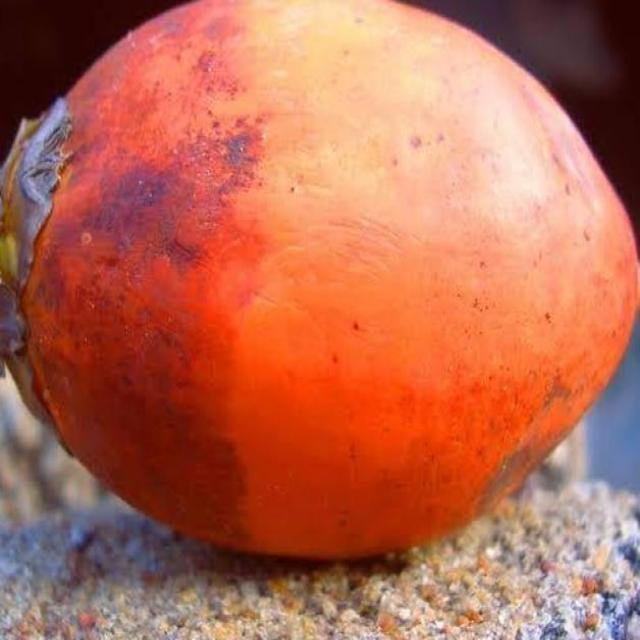good: (0, 0, 639, 567)
